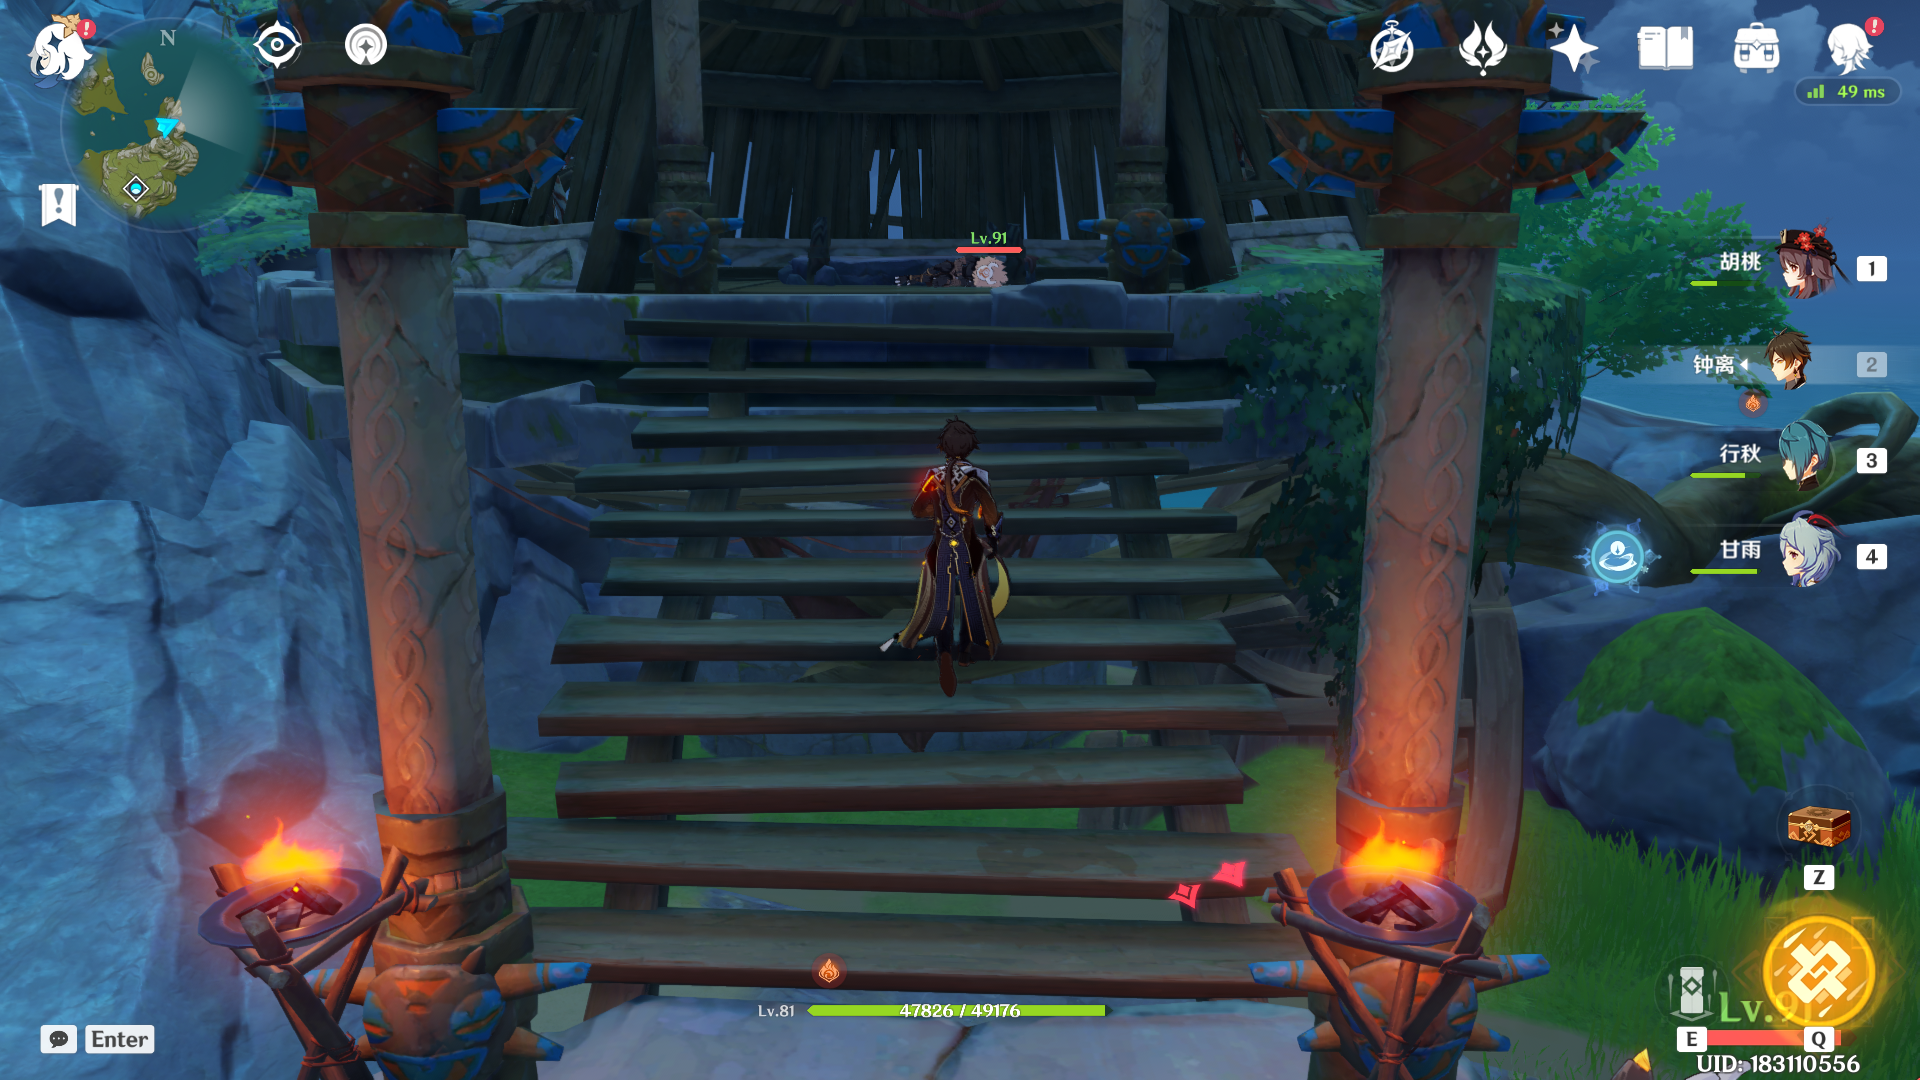character: (866, 375, 1058, 721)
hili: (876, 245, 1026, 309)
